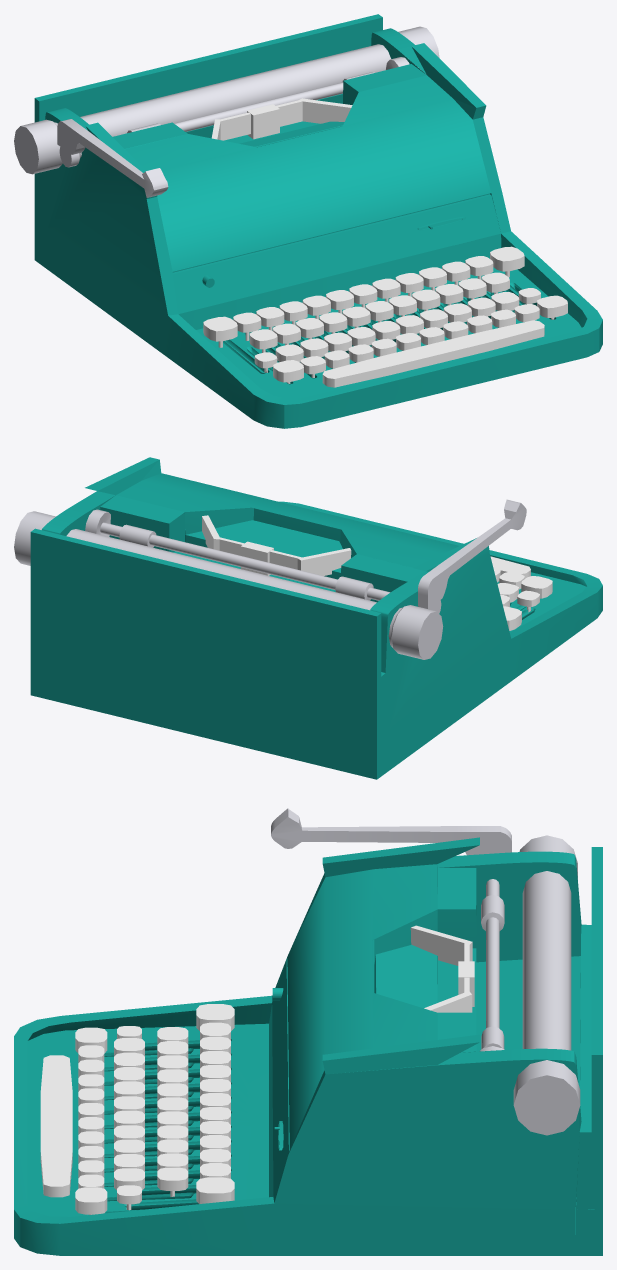
The model's file is typewriter-transformed.glb.
3 views of the same model, one above another, from view 1: azimuth 30°, elevation 25°; view 2: azimuth 150°, elevation 25°; view 3: azimuth 270°, elevation 25° (orthographic). The views are drawn at different scales.
Visible parts, largest first — view 1: Cube.023_Material_0, Cube.001__0, Cylinder_Material.001_0; view 2: Cube.023_Material_0, Cylinder_Material.001_0, Cube.001__0; view 3: Cube.023_Material_0, Cube.001__0, Cylinder_Material.001_0.
Part boxes in pixels (x1=…): Cube.023_Material_0: x1=34, y1=14, x2=602, y2=428; Cube.001__0: x1=203, y1=98, x2=567, y2=387; Cylinder_Material.001_0: x1=14, y1=26, x2=439, y2=197; Cube.023_Material_0: x1=30, y1=457, x2=602, y2=779; Cylinder_Material.001_0: x1=14, y1=499, x2=526, y2=659; Cube.001__0: x1=202, y1=515, x2=552, y2=630; Cube.023_Material_0: x1=14, y1=837, x2=602, y2=1255; Cube.001__0: x1=40, y1=925, x2=474, y2=1214; Cylinder_Material.001_0: x1=271, y1=808, x2=580, y2=1135.
Size of the model in its own units: 4.01 by 1.78 by 4.13.
